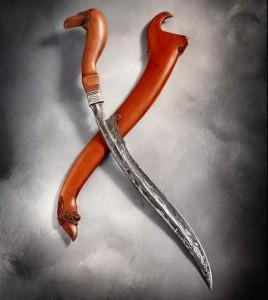facao: (83, 74, 211, 289)
